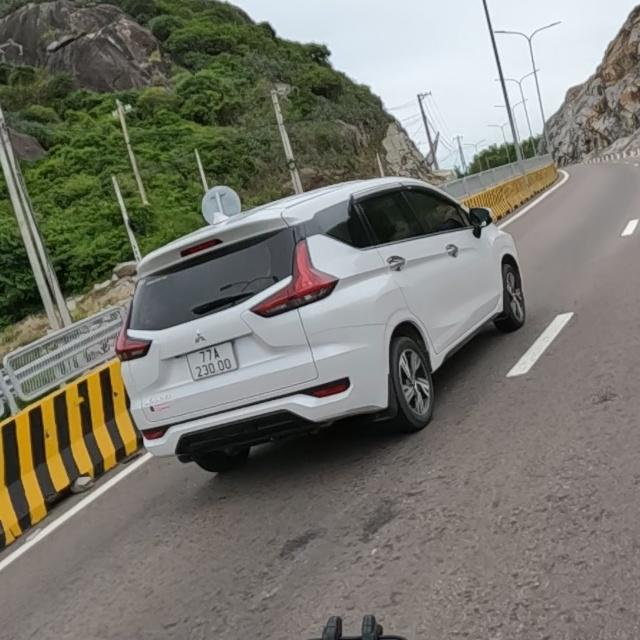license-plate: (185, 340, 239, 382)
